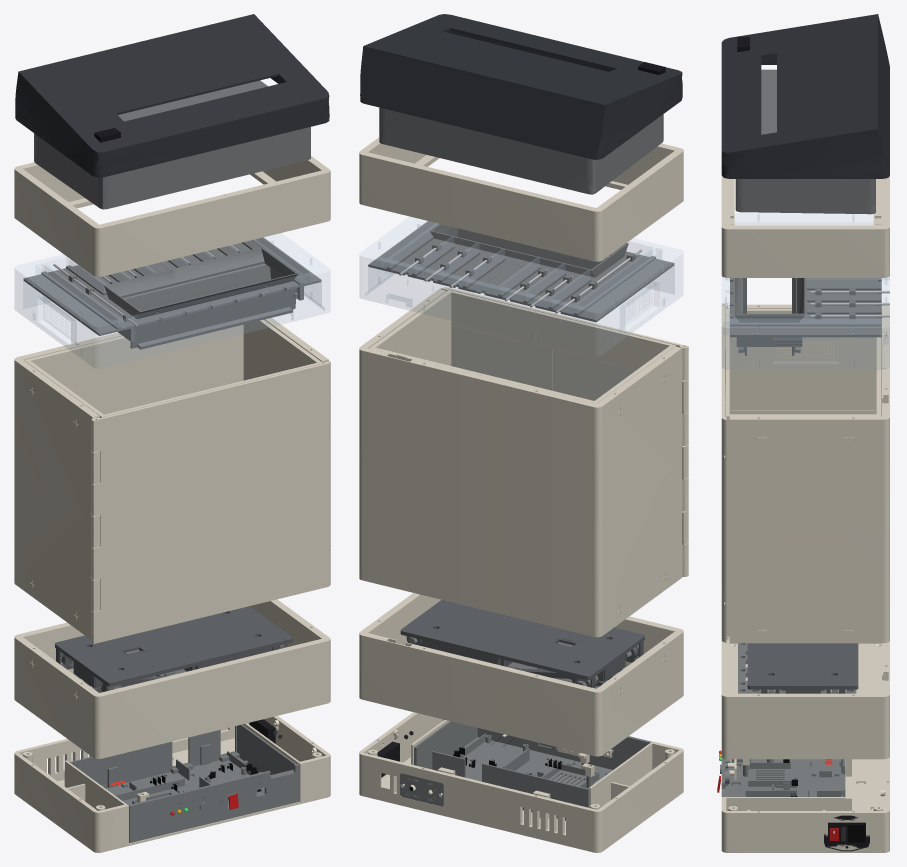
The picture shows the model from 3 angles, left to right: view 1: azimuth 30°, elevation 25°; view 2: azimuth 150°, elevation 25°; view 3: azimuth 270°, elevation 25°; orthographic projection. The views are drawn at different scales.
Visible parts, largest first — view 1: s2_door, head, s3, s1_box, s2_outer, s4, s0_drawer, s2_bin, s0_fixed, lift_접힘; view 2: s2_outer, head, s3, s1_box, s4, s0_fixed, s2_bin, lift_접힘, s0_drawer, s2_door; view 3: s2_outer, head, s3, s1_box, s2_bin, s0_fixed, s4, lift_접힘, s0_drawer, s2_door, s1_liftfix.
Boxes of the visible parts, x1,y1,x2,y2 form: s2_door: (91, 361, 330, 643); head: (15, 14, 329, 209); s3: (15, 233, 329, 368); s1_box: (14, 599, 330, 758); s2_outer: (14, 317, 328, 639); s4: (14, 156, 330, 276); s0_drawer: (69, 724, 299, 843); s2_bin: (24, 319, 323, 417); s0_fixed: (14, 716, 330, 852); lift_접힘: (55, 606, 292, 692); s2_outer: (359, 289, 688, 637); head: (360, 14, 682, 194); s3: (360, 217, 682, 355); s1_box: (359, 593, 683, 756); s4: (359, 137, 683, 261); s0_fixed: (359, 712, 683, 852); s2_bin: (369, 290, 676, 403); lift_접힘: (400, 600, 644, 688); s0_drawer: (414, 721, 651, 820); s2_door: (440, 287, 688, 576); s2_outer: (725, 304, 889, 643); head: (721, 14, 889, 214); s3: (722, 213, 889, 368); s1_box: (721, 636, 889, 759); s2_bin: (725, 308, 881, 636); s0_fixed: (721, 757, 889, 852); s4: (721, 176, 889, 277); lift_접힘: (747, 643, 858, 693); s0_drawer: (717, 750, 845, 796); s2_door: (721, 303, 728, 642); s1_liftfix: (738, 643, 856, 693).
Size of the model in its own units: 0.3562 by 1.01 by 0.2217.
